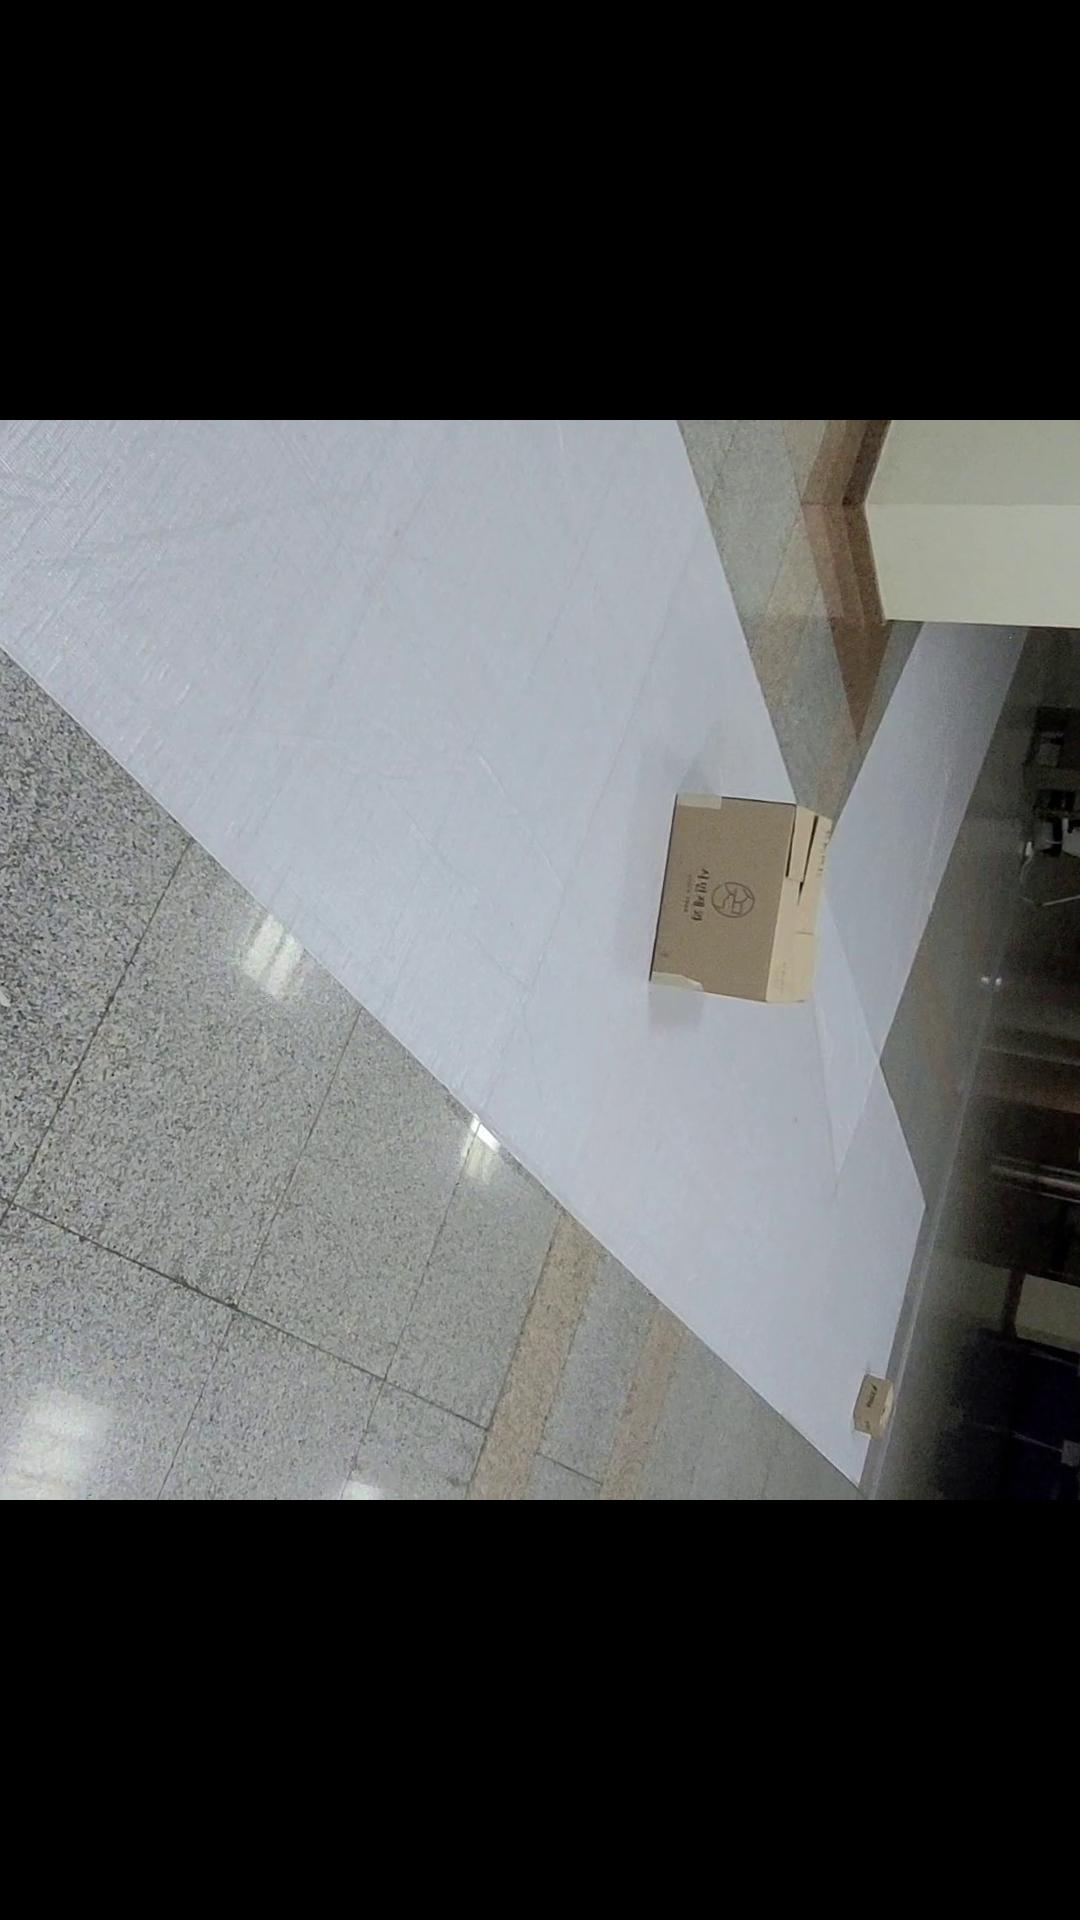Box: (625, 781, 847, 1015), (823, 1358, 899, 1437)
